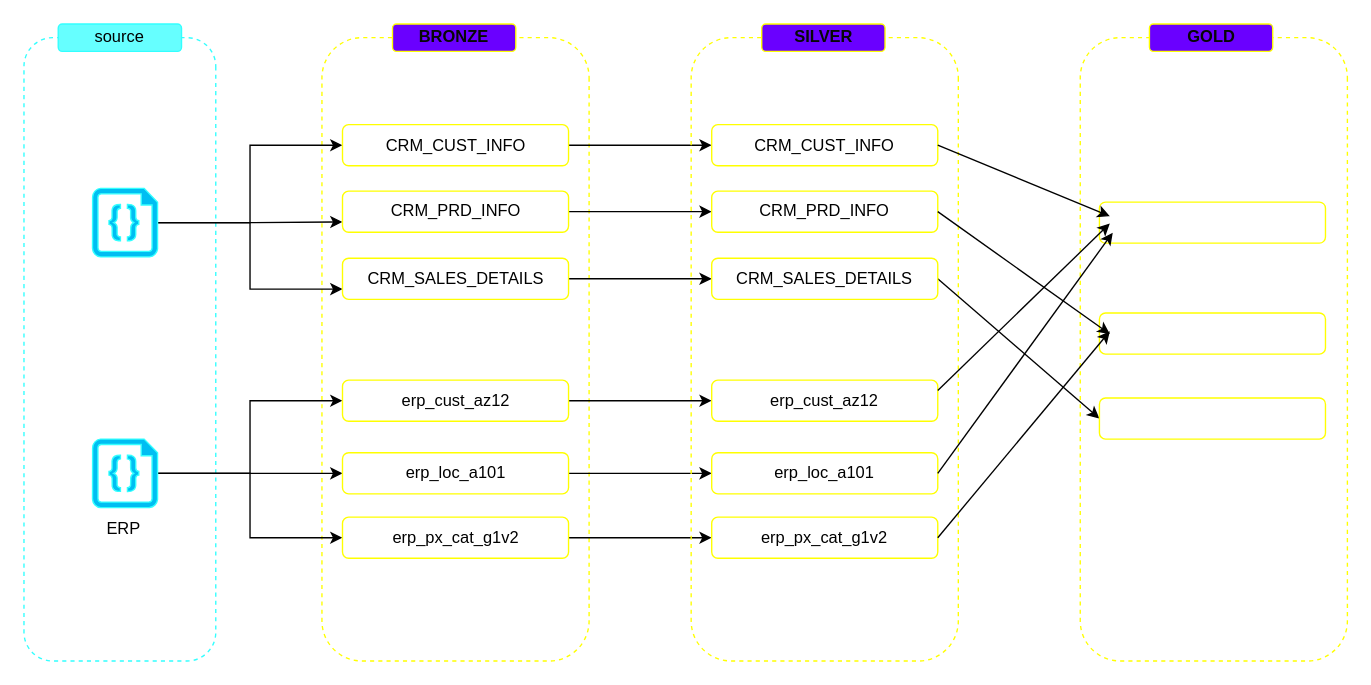
The diagram is 1371 pixels wide and 685 high, and some of its shapes have lost their labels. The box of each missing label's shape, as (x1, y1, x2, y2) in pixels:
CRM: (23, 36, 216, 661)
CUSTOMER: (1098, 201, 1325, 243)
PRODUCT: (1098, 312, 1325, 354)
SALES: (1098, 397, 1325, 439)
